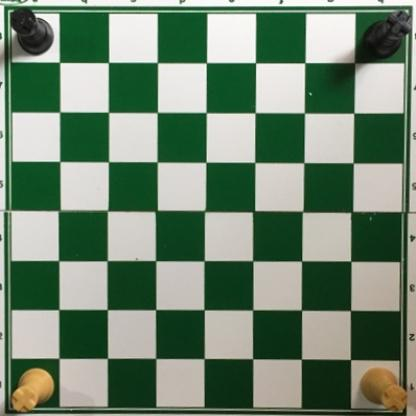black-rook: (361, 9, 414, 59), (9, 6, 56, 57)
white-rook: (10, 365, 58, 414), (359, 365, 407, 413)
